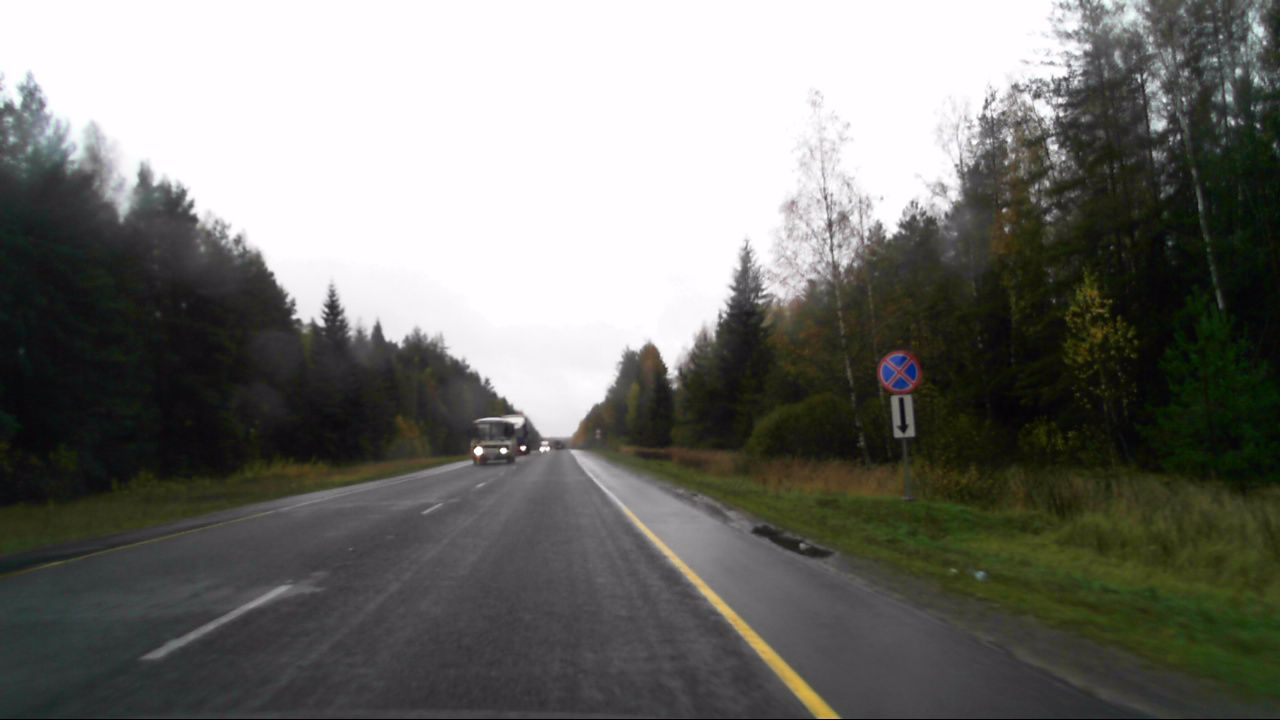No Parking: (875, 350, 924, 395)
